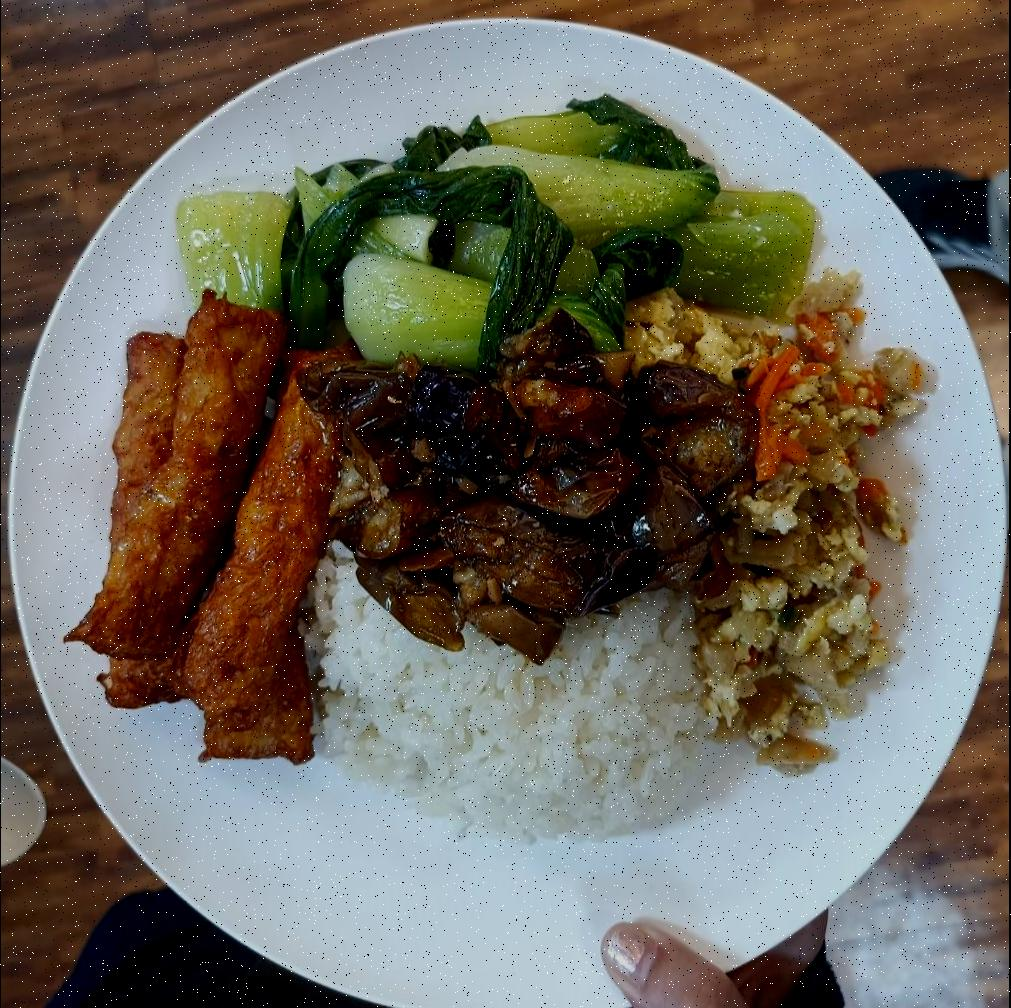big fried chicken leg: (9, 9, 1009, 1008)
big herbal chicken leg: (309, 542, 734, 836)
braised fish fillet: (180, 92, 822, 366), (310, 344, 746, 661), (640, 292, 922, 774)
braised pork: (82, 301, 359, 774)
